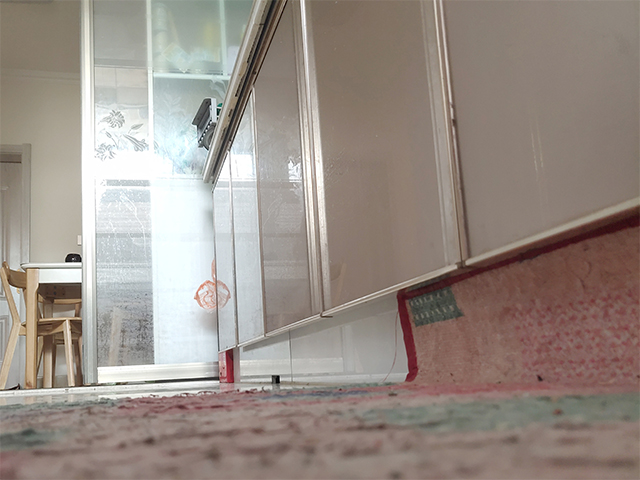cabinet: (200, 1, 640, 388)
carpet: (1, 369, 640, 480)
stool: (1, 260, 84, 392)
table: (17, 261, 84, 391)
